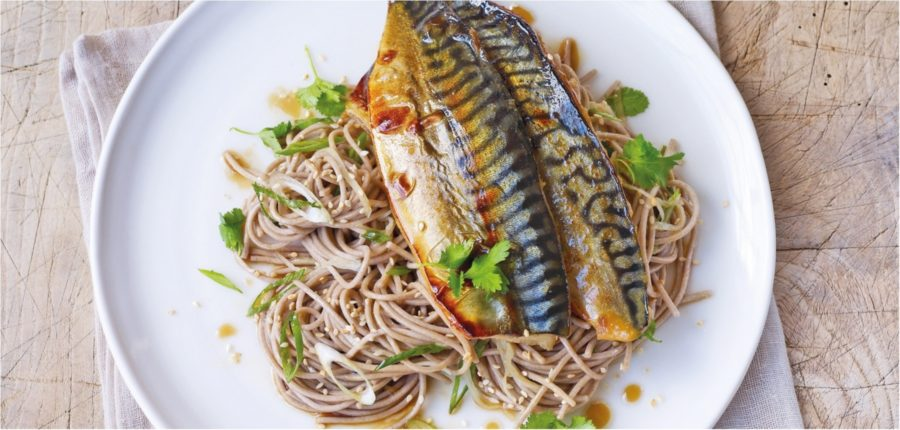Soba: (235, 130, 480, 423)
